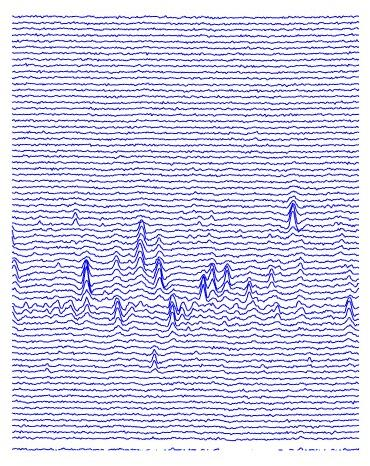defect: (134, 213, 168, 295), (240, 271, 281, 321), (70, 251, 94, 320), (195, 260, 234, 300), (12, 297, 74, 320), (106, 290, 127, 330), (165, 286, 181, 332), (285, 196, 302, 234), (148, 341, 165, 377), (340, 293, 354, 330), (302, 349, 315, 380), (110, 242, 122, 275), (67, 205, 81, 225), (297, 262, 309, 284), (295, 297, 305, 323)
